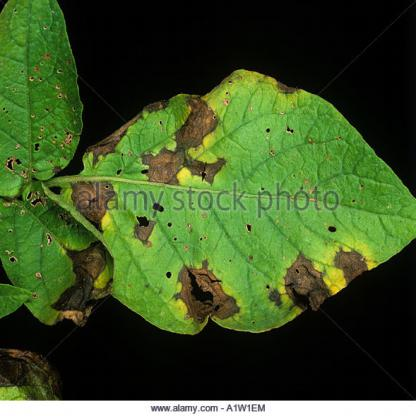Potato leaf early blight: (53, 66, 415, 337), (4, 183, 114, 331)
